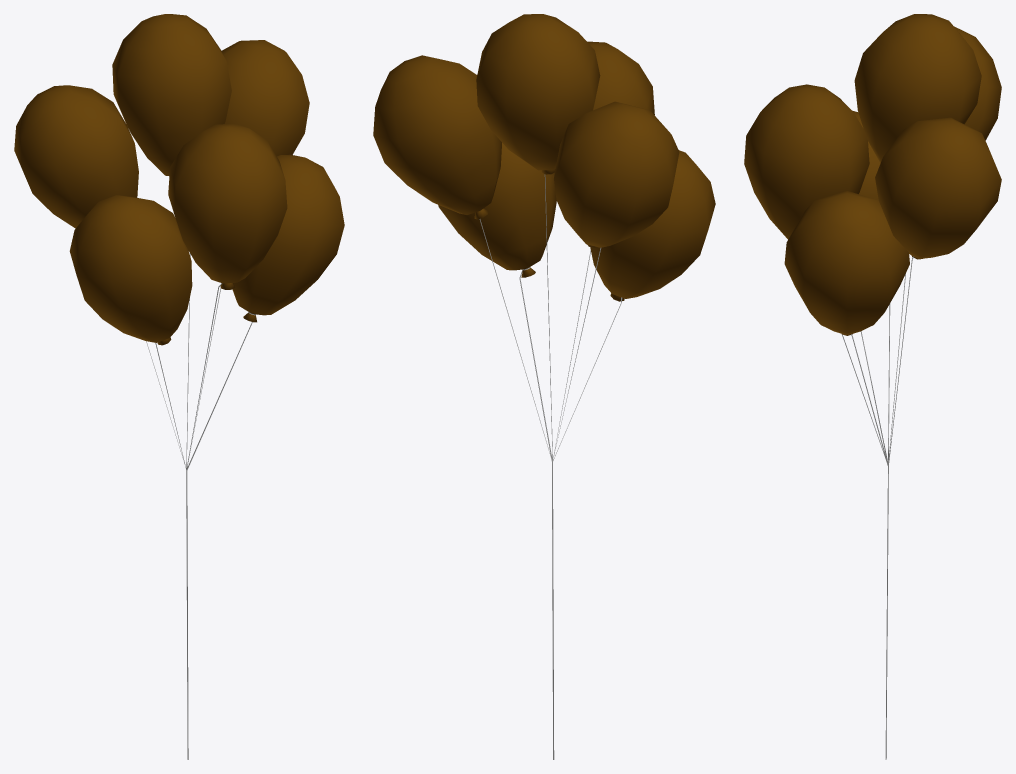
The model's file is BalloonBunchBrown.glb.
The picture shows the model from 3 angles, left to right: view 1: azimuth 30°, elevation 25°; view 2: azimuth 150°, elevation 25°; view 3: azimuth 270°, elevation 25°; orthographic projection. The views are drawn at different scales.
Visible parts, largest first — view 1: BalloonBunchBrown; view 2: BalloonBunchBrown; view 3: BalloonBunchBrown.
Boxes of the visible parts, x1=… form: BalloonBunchBrown: x1=14, y1=14, x2=344, y2=759; BalloonBunchBrown: x1=373, y1=14, x2=715, y2=759; BalloonBunchBrown: x1=744, y1=14, x2=1001, y2=759.
Size of the model in its own units: 1.32 by 3.26 by 1.03.
Materials: 1 (1 with a texture image).
